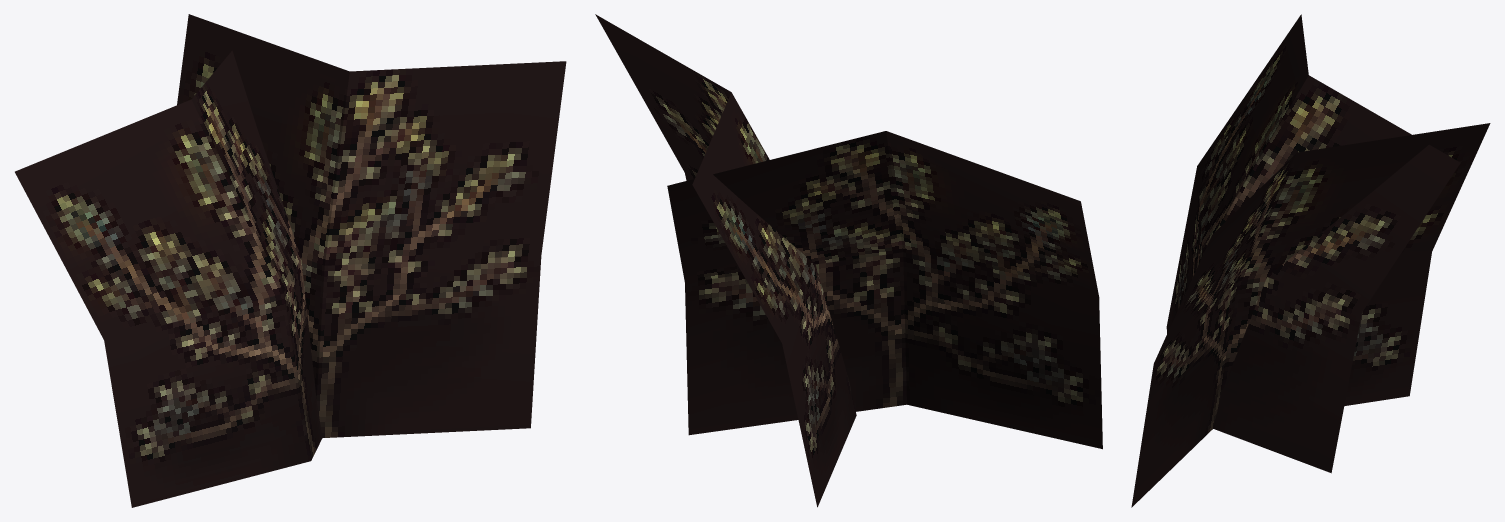
Rendered from lhys_cao3.fbx.
The picture shows the model from 3 angles, left to right: view 1: azimuth 30°, elevation 25°; view 2: azimuth 150°, elevation 25°; view 3: azimuth 270°, elevation 25°; orthographic projection. The views are drawn at different scales.
Parts seen in each view (by area): view 1: lhys_cao3; view 2: lhys_cao3; view 3: lhys_cao3.
Part boxes in pixels (box(x1,y1,x2,y2)): lhys_cao3: box(15, 14, 566, 507); lhys_cao3: box(595, 14, 1102, 507); lhys_cao3: box(1131, 14, 1490, 507).
Size of the model in its own units: 609 by 371 by 384.
